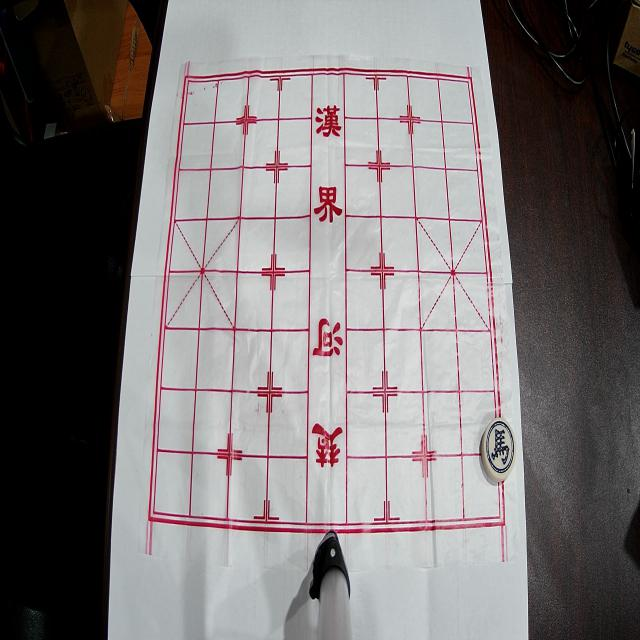black-horse: (481, 418, 516, 482)
